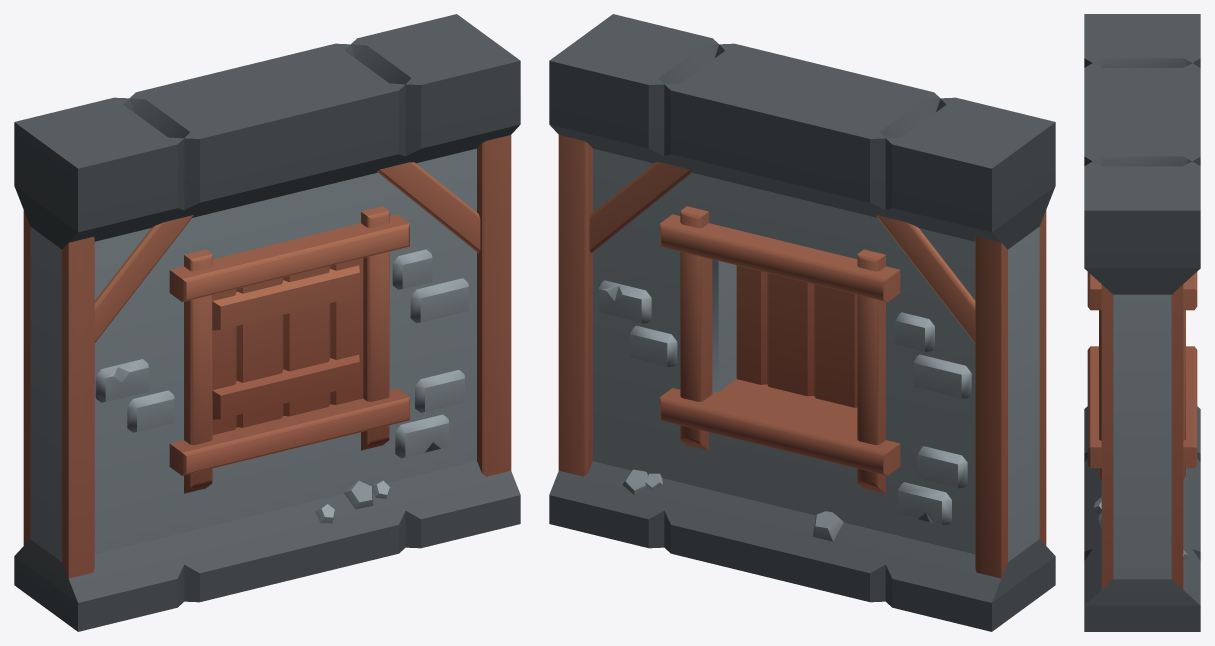
Rendered from wall_window_closed_scaffold.gltf.
The picture shows the model from 3 angles, left to right: view 1: azimuth 30°, elevation 25°; view 2: azimuth 150°, elevation 25°; view 3: azimuth 270°, elevation 25°; orthographic projection. The views are drawn at different scales.
Visible parts, largest first — view 1: wall_window_closed_scaffold; view 2: wall_window_closed_scaffold; view 3: wall_window_closed_scaffold.
Part boxes in pixels (x1,y1,x2,y2): wall_window_closed_scaffold: [14, 14, 520, 631]; wall_window_closed_scaffold: [549, 14, 1055, 631]; wall_window_closed_scaffold: [1084, 14, 1200, 631].
Bounding box in the file's own units: 4 × 4 × 1.
1 material, 1 textured.
